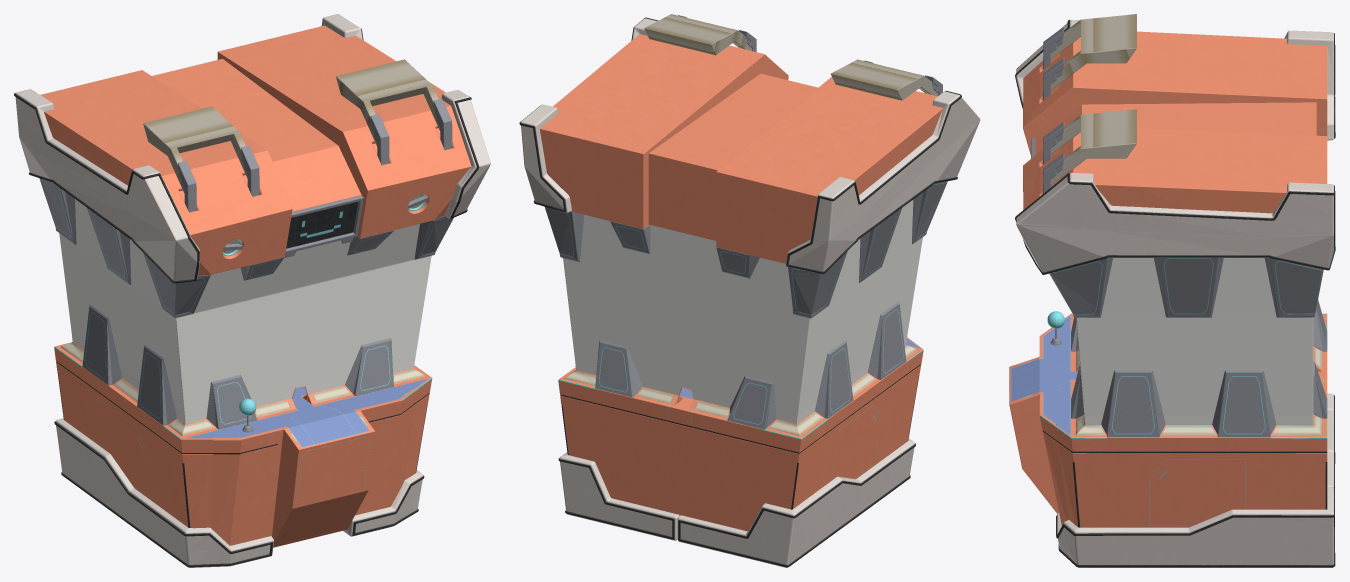
File: ClawnB.fbx
3 views of the same model, side by side, from view 1: azimuth 30°, elevation 25°; view 2: azimuth 150°, elevation 25°; view 3: azimuth 270°, elevation 25° (orthographic). The views are drawn at different scales.
Visible parts, largest first — view 1: SM_VA_ClawmB.mo; view 2: SM_VA_ClawmB.mo; view 3: SM_VA_ClawmB.mo.
Boxes of the visible parts, box(x1,y1,x2,y2) form: SM_VA_ClawmB.mo: box(14, 14, 490, 567); SM_VA_ClawmB.mo: box(519, 14, 980, 567); SM_VA_ClawmB.mo: box(1009, 14, 1335, 567).
Bounding box in the file's own units: 105 × 130 × 89.04.
